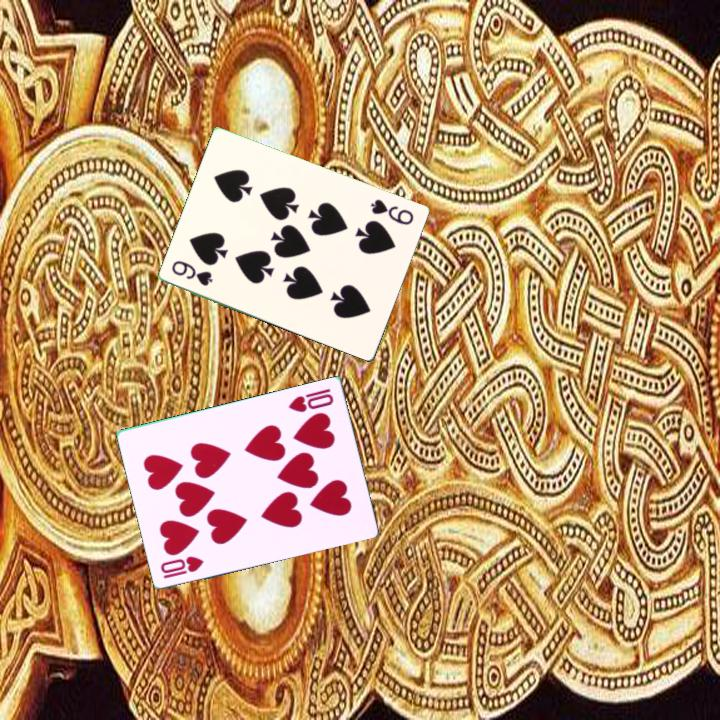10h: (285, 384, 337, 415), (157, 552, 207, 581)
9s: (367, 195, 417, 228), (168, 257, 216, 289)
